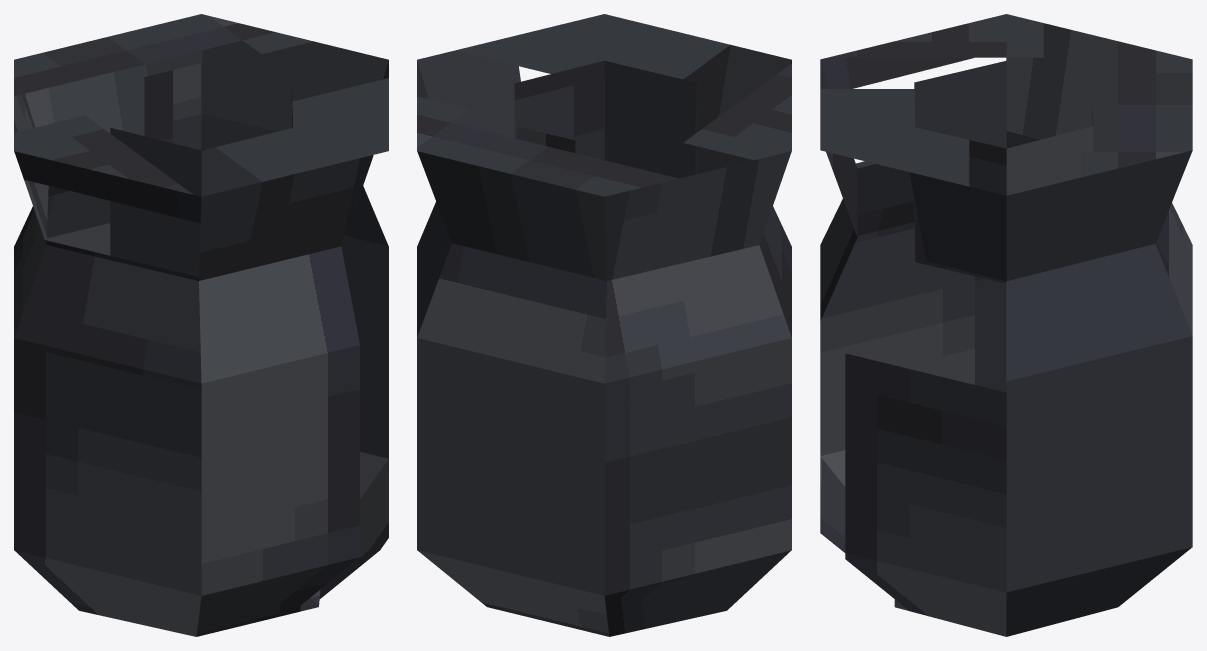
The model's file is clay_pot.obj.
3 views of the same model, side by side, from view 1: azimuth 30°, elevation 25°; view 2: azimuth 150°, elevation 25°; view 3: azimuth 270°, elevation 25° (orthographic).
Parts seen in each view (by area): view 1: cylinder; view 2: cylinder; view 3: cylinder.
Part boxes in pixels (left/top/right/bottom): cylinder: left=14, top=14, right=388, bottom=636; cylinder: left=417, top=14, right=791, bottom=636; cylinder: left=820, top=14, right=1192, bottom=636.
Bounding box in the file's own units: 0.7217 × 0.875 × 0.625.
